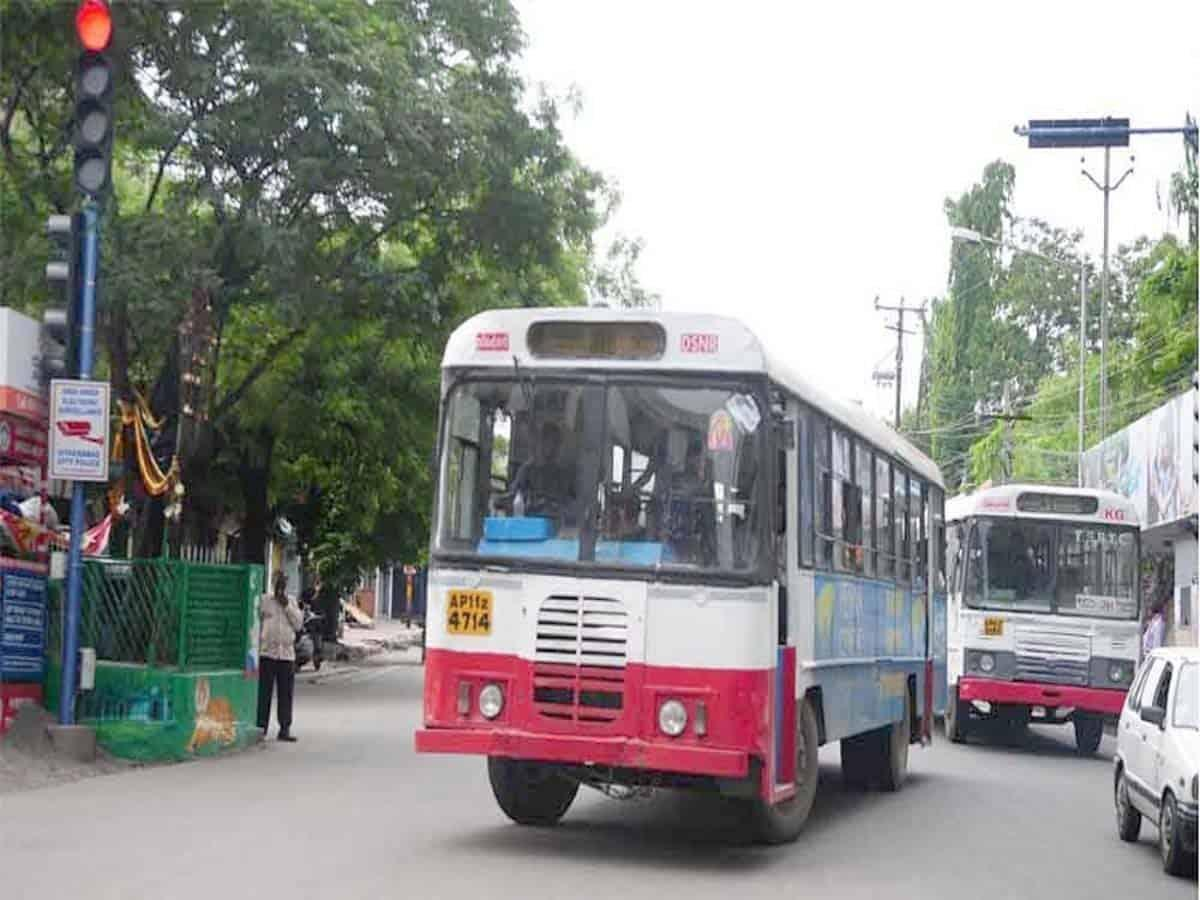Bus: (415, 307, 949, 846), (944, 485, 1146, 754)
